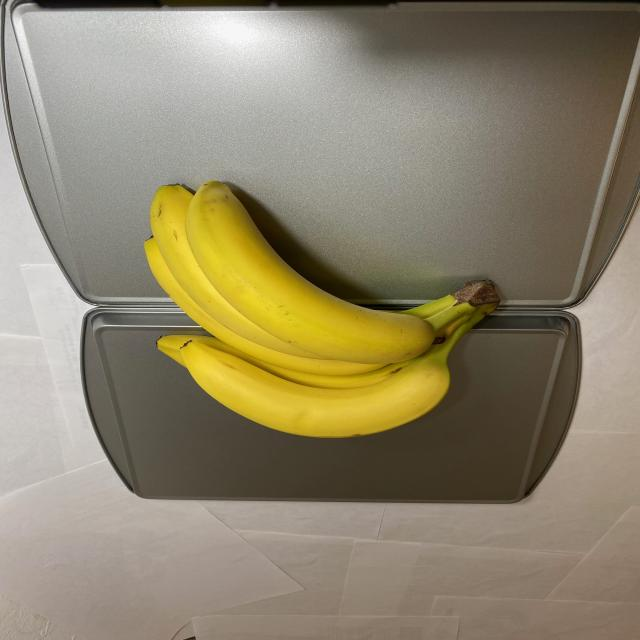banana: (145, 178, 506, 438)
